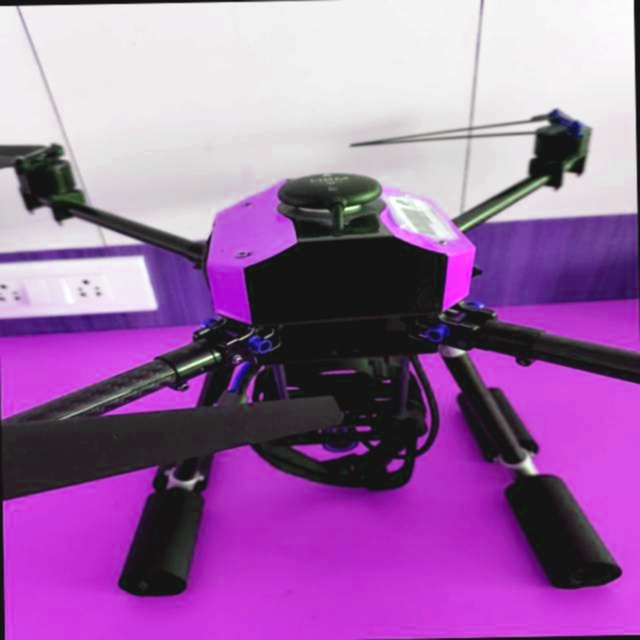quadcopter: (0, 95, 640, 608)
